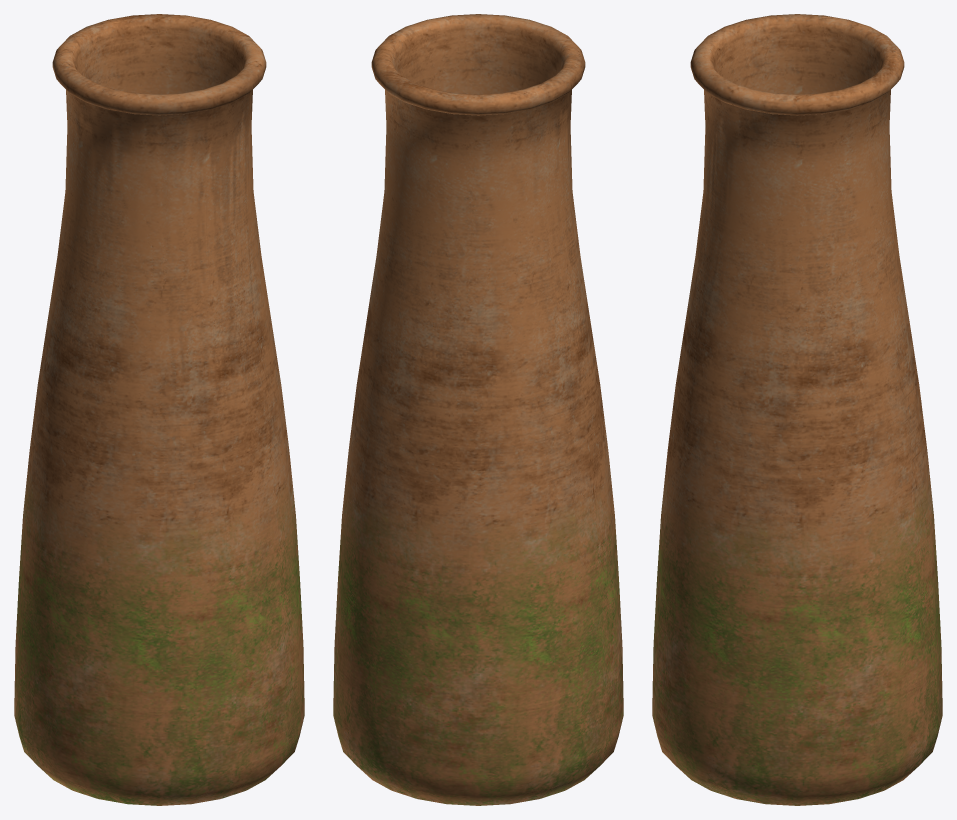
Rendered from old_vase.glb.
3 renders of one model, left to right at view 1: azimuth 30°, elevation 25°; view 2: azimuth 150°, elevation 25°; view 3: azimuth 270°, elevation 25°, orthographic.
Parts seen in each view (by area): view 1: vase2_vase2_0; view 2: vase2_vase2_0; view 3: vase2_vase2_0.
Part boxes in pixels (x1=…): vase2_vase2_0: x1=14, y1=14, x2=304, y2=805; vase2_vase2_0: x1=333, y1=14, x2=623, y2=805; vase2_vase2_0: x1=652, y1=14, x2=942, y2=805.
Bounding box in the file's own units: 0.00703 × 0.0188 × 0.00703.
1 material, 1 textured.
